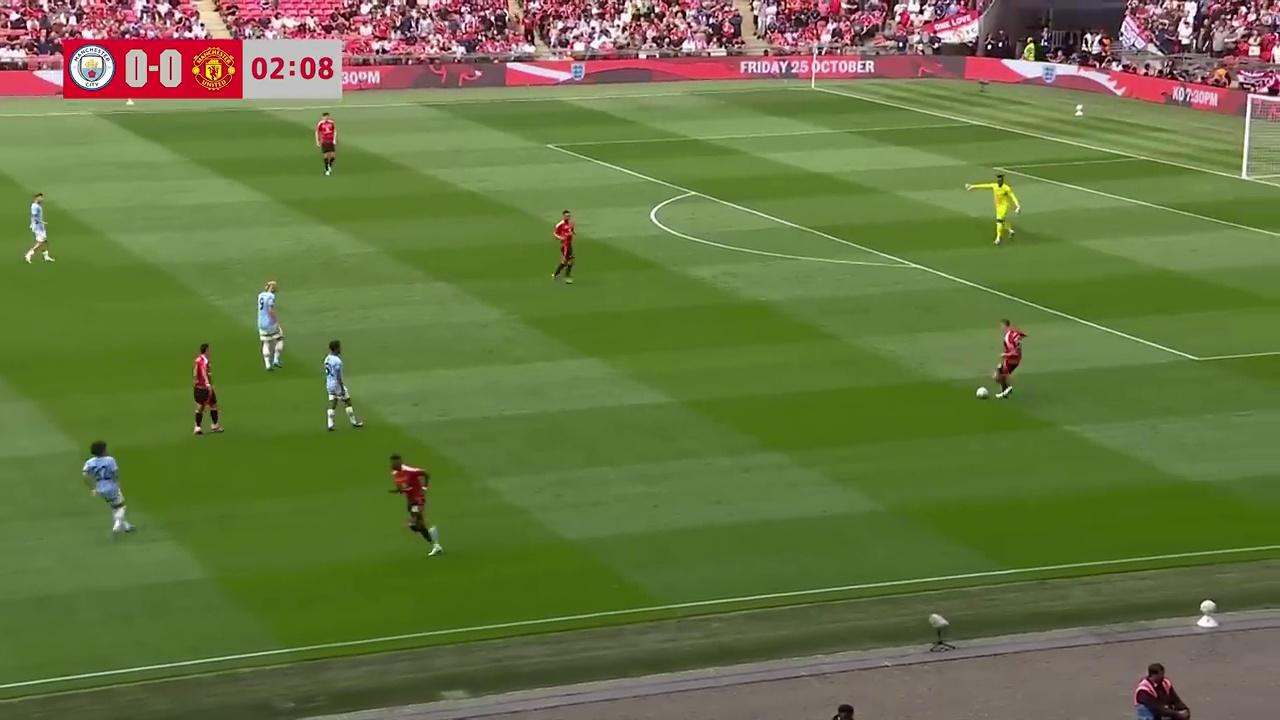ball: (974, 383, 990, 399)
player: (389, 455, 444, 556), (82, 440, 134, 536), (322, 339, 363, 432), (984, 319, 1025, 398), (192, 342, 223, 435), (255, 281, 283, 371), (24, 192, 55, 264), (551, 208, 575, 284), (993, 174, 1019, 244), (315, 112, 337, 176)
